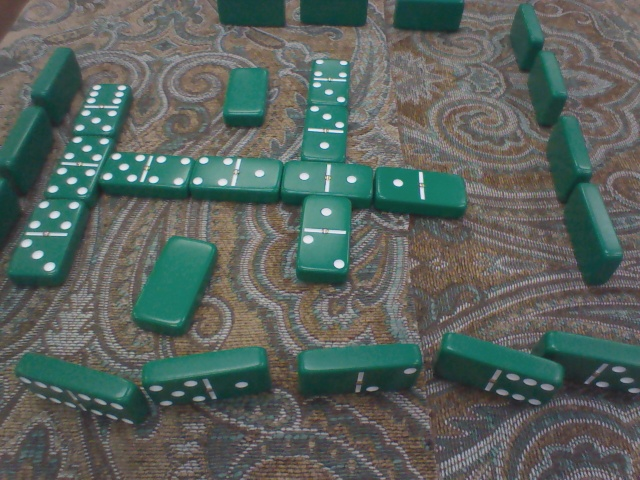A: (132, 234, 212, 333), (223, 66, 271, 129)
B: (288, 195, 354, 279), (367, 162, 470, 215), (13, 197, 75, 281), (277, 157, 382, 205), (96, 149, 191, 198), (190, 150, 281, 201), (47, 135, 102, 206), (297, 101, 358, 162), (70, 83, 129, 141), (302, 54, 360, 108)
C: (4, 105, 46, 195), (37, 43, 85, 118), (1, 179, 25, 249)
D: (565, 181, 622, 295), (541, 117, 598, 198), (520, 50, 567, 125), (496, 4, 544, 73)
E: (12, 346, 141, 435), (432, 328, 561, 412), (141, 349, 280, 412), (291, 340, 425, 404), (546, 323, 640, 400)
F: (391, 1, 466, 34), (210, 1, 288, 28), (296, 1, 370, 26)
